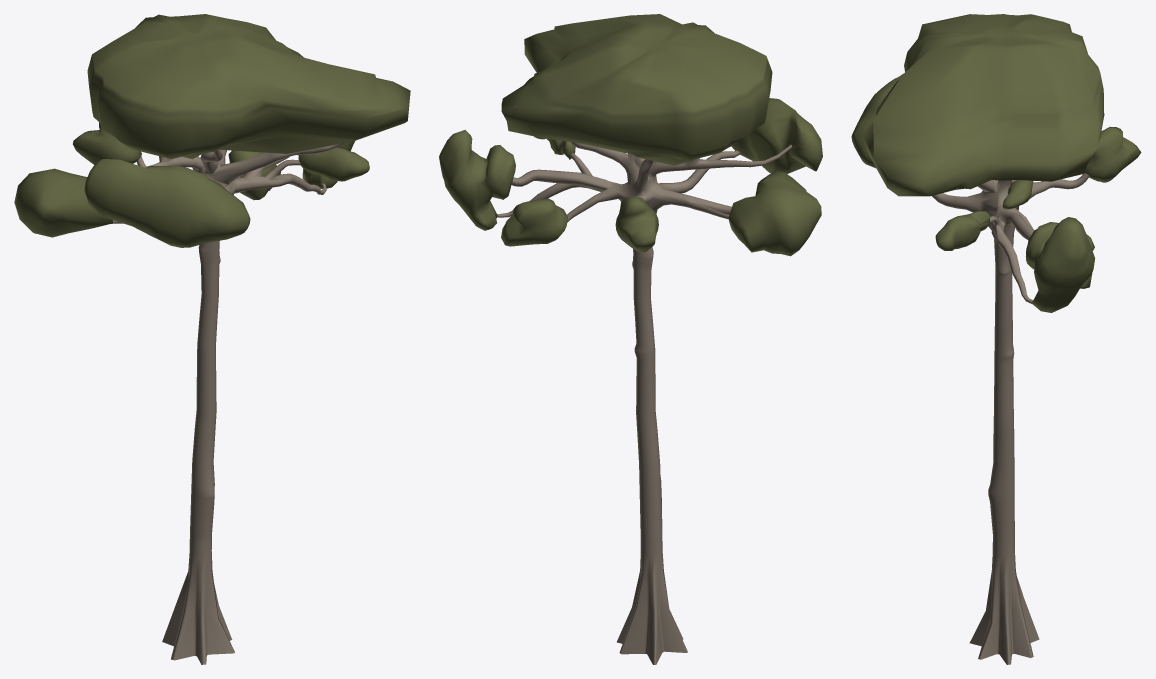
File: KapokTree.fbx
3 renders of one model, left to right at view 1: azimuth 30°, elevation 25°; view 2: azimuth 150°, elevation 25°; view 3: azimuth 270°, elevation 25°, orthographic.
Parts seen in each view (by area): view 1: topLeaves, treeMesh1, smoothLeaves, bumpyLeaves, smoothLeaves1, bumpyLeaves1, bumpyLeaves3; view 2: topLeaves, treeMesh1, bumpyLeaves, knobbyLeaves, smoothLeaves, bumpyLeaves3, bumpyLeaves1; view 3: topLeaves, treeMesh1, knobbyLeaves, bumpyLeaves1, smoothLeaves1, smoothLeaves, smoothLeaves2.
Boxes of the visible parts, x1=… form: topLeaves: x1=87, y1=14, x2=410, y2=159; treeMesh1: x1=111, y1=142, x2=346, y2=664; smoothLeaves: x1=84, y1=159, x2=250, y2=247; bumpyLeaves: x1=14, y1=168, x2=112, y2=237; smoothLeaves1: x1=298, y1=147, x2=369, y2=181; bumpyLeaves1: x1=73, y1=122, x2=141, y2=164; bumpyLeaves3: x1=228, y1=150, x2=280, y2=200; topLeaves: x1=501, y1=14, x2=772, y2=165; treeMesh1: x1=497, y1=106, x2=791, y2=664; bumpyLeaves: x1=728, y1=170, x2=821, y2=256; knobbyLeaves: x1=439, y1=130, x2=515, y2=230; smoothLeaves: x1=731, y1=98, x2=822, y2=173; bumpyLeaves3: x1=501, y1=198, x2=567, y2=246; bumpyLeaves1: x1=615, y1=196, x2=658, y2=252; topLeaves: x1=862, y1=14, x2=1104, y2=196; treeMesh1: x1=932, y1=135, x2=1095, y2=664; knobbyLeaves: x1=1025, y1=217, x2=1095, y2=312; bumpyLeaves1: x1=1083, y1=126, x2=1141, y2=182; smoothLeaves1: x1=935, y1=210, x2=990, y2=250; smoothLeaves: x1=851, y1=73, x2=903, y2=168; smoothLeaves2: x1=1002, y1=180, x2=1033, y2=209.
Size of the model in its own units: 393 by 663 by 284.
